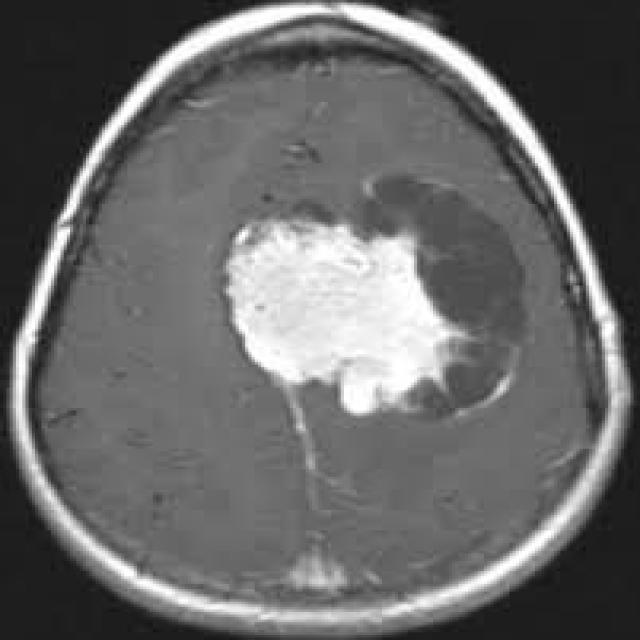Tumor: (226, 176, 525, 414)
